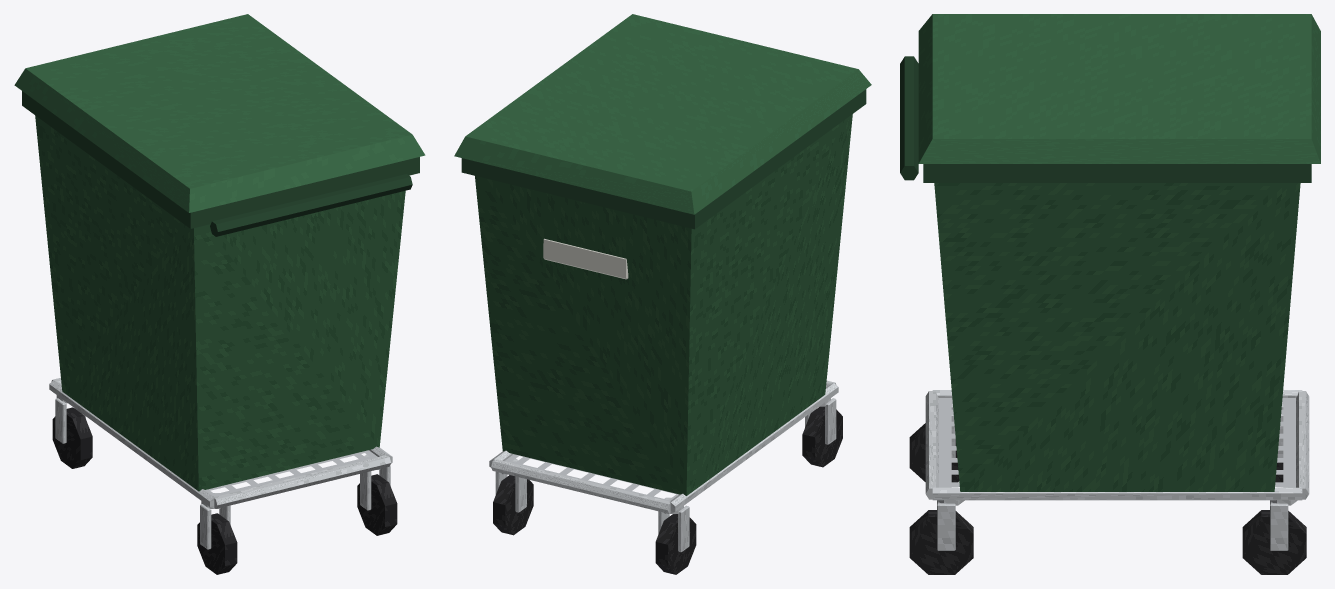
Rendered from vehicle_rolling_trash_can.glb.
3 views of the same model, side by side, from view 1: azimuth 30°, elevation 25°; view 2: azimuth 150°, elevation 25°; view 3: azimuth 270°, elevation 25° (orthographic). The views are drawn at different scales.
Visible parts, largest first — view 1: block_body, block_lid, block_rim, block_handle, block_end0.4, block_w-0.23-0.36, block_w-0.230.36, block_w0.230.36, block_side-0.25, block_tray; view 2: block_body, block_lid, block_rim, block_end-0.4, block_label, block_w-0.23-0.36, block_w-0.230.36, block_w0.23-0.36, block_side-0.25, block_tray; view 3: block_body, block_lid, block_rim, block_side0.25, block_w0.23-0.36, block_w0.230.36, block_tray, block_handle, block_end0.4, block_end-0.4, block_w-0.230.36, block_fork0.230.361 (+1 smaller).
Boxes of the visible parts, left/top/right/bottom form: block_body: left=35, top=115, right=405, bottom=491; block_lid: left=14, top=14, right=425, bottom=212; block_rim: left=22, top=91, right=419, bottom=228; block_handle: left=210, top=174, right=412, bottom=236; block_end0.4: left=214, top=455, right=390, bottom=508; block_w-0.23-0.36: left=52, top=407, right=92, bottom=468; block_w-0.230.36: left=197, top=513, right=237, bottom=574; block_w0.230.36: left=357, top=474, right=397, bottom=535; block_side-0.25: left=49, top=380, right=215, bottom=508; block_tray: left=206, top=450, right=377, bottom=496; block_body: left=475, top=114, right=852, bottom=495; block_lid: left=454, top=14, right=871, bottom=214; block_rim: left=461, top=89, right=866, bottom=229; block_end-0.4: left=491, top=459, right=670, bottom=513; block_label: left=543, top=238, right=628, bottom=279; block_w-0.23-0.36: left=655, top=514, right=696, bottom=574; block_w-0.230.36: left=802, top=406, right=842, bottom=467; block_w0.23-0.36: left=493, top=475, right=533, bottom=535; block_side-0.25: left=670, top=383, right=838, bottom=513; block_tray: left=504, top=454, right=678, bottom=501; block_body: left=934, top=183, right=1300, bottom=491; block_lid: left=918, top=14, right=1320, bottom=163; block_rim: left=923, top=164, right=1311, bottom=182; block_side0.25: left=932, top=487, right=1302, bottom=500; block_w0.23-0.36: left=1242, top=510, right=1306, bottom=574; block_w0.230.36: left=909, top=510, right=973, bottom=574; block_tray: left=939, top=398, right=1295, bottom=487; block_handle: left=900, top=56, right=918, bottom=180; block_end0.4: left=925, top=391, right=938, bottom=499; block_end-0.4: left=1296, top=391, right=1309, bottom=499; block_w-0.230.36: left=909, top=423, right=959, bottom=482; block_fork0.230.361: left=937, top=503, right=955, bottom=550.
Size of the model in its own units: 0.68 by 1.07 by 0.91.
3 materials, 3 textured.
